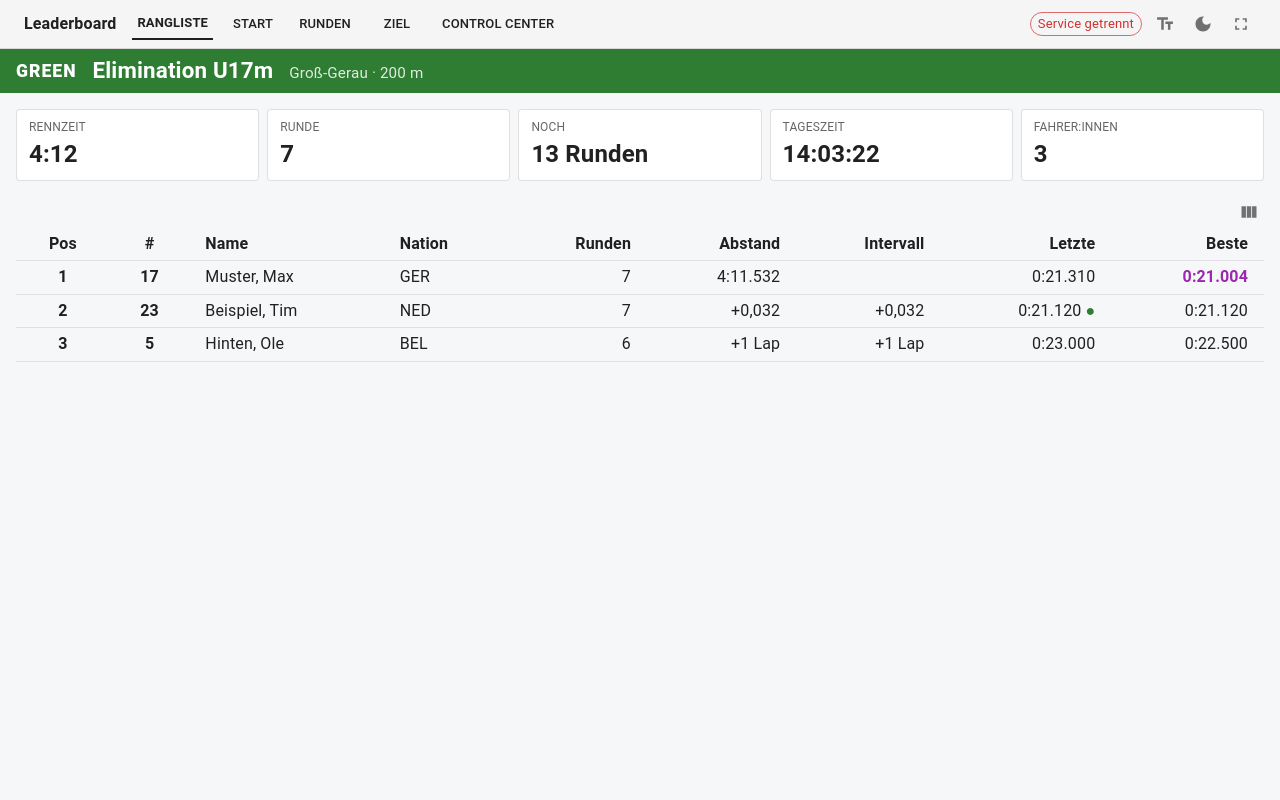
Test: leaderboard › switches columns with presets and remembers them on the device
expect the heading "Elimination U17m" is shown: met, box x1=92 y1=57 x2=273 y2=84
expect the column heading "Intervall" is shown: met, box x1=796 y1=227 x2=940 y2=261
Click the button named "Spalten wählen" at (1249, 212), box x1=1234 y1=197 x2=1264 y2=227
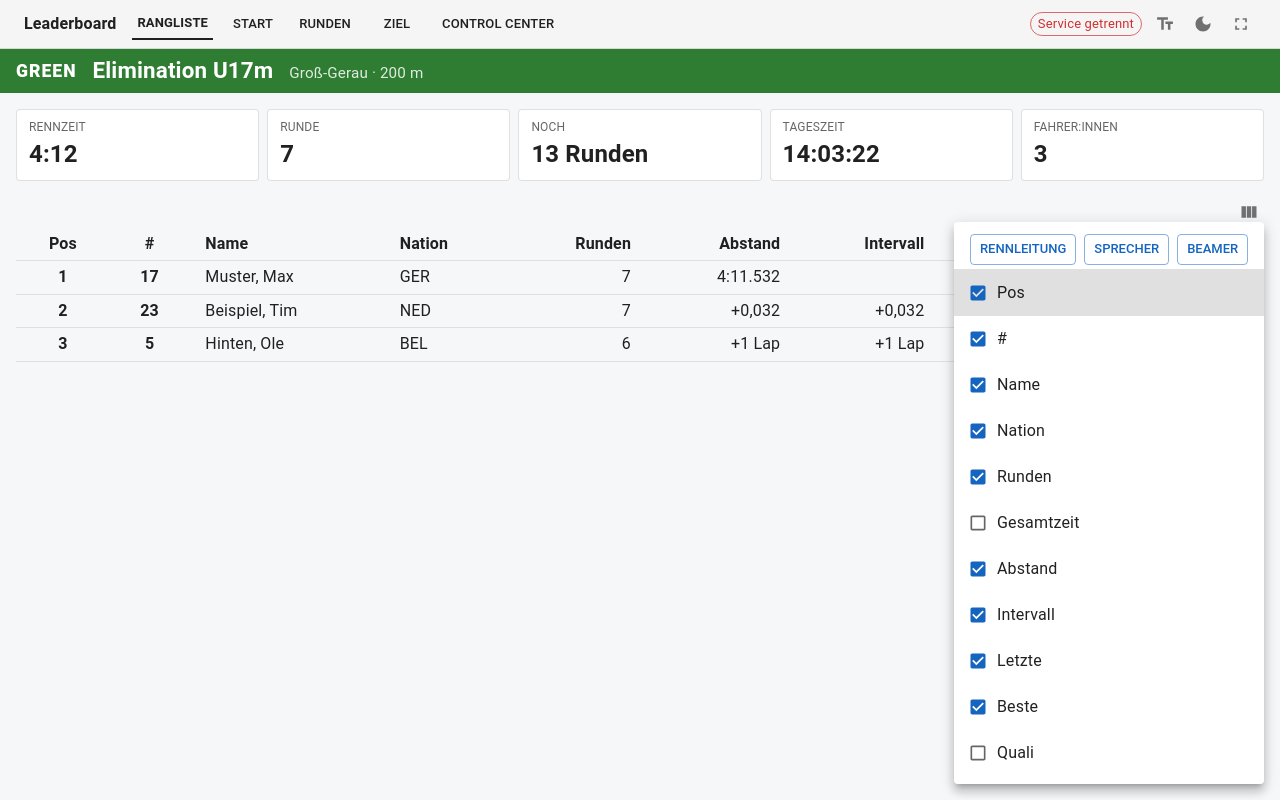
Click the button "Beamer" at (1213, 249), box x1=1177 y1=234 x2=1248 y2=265
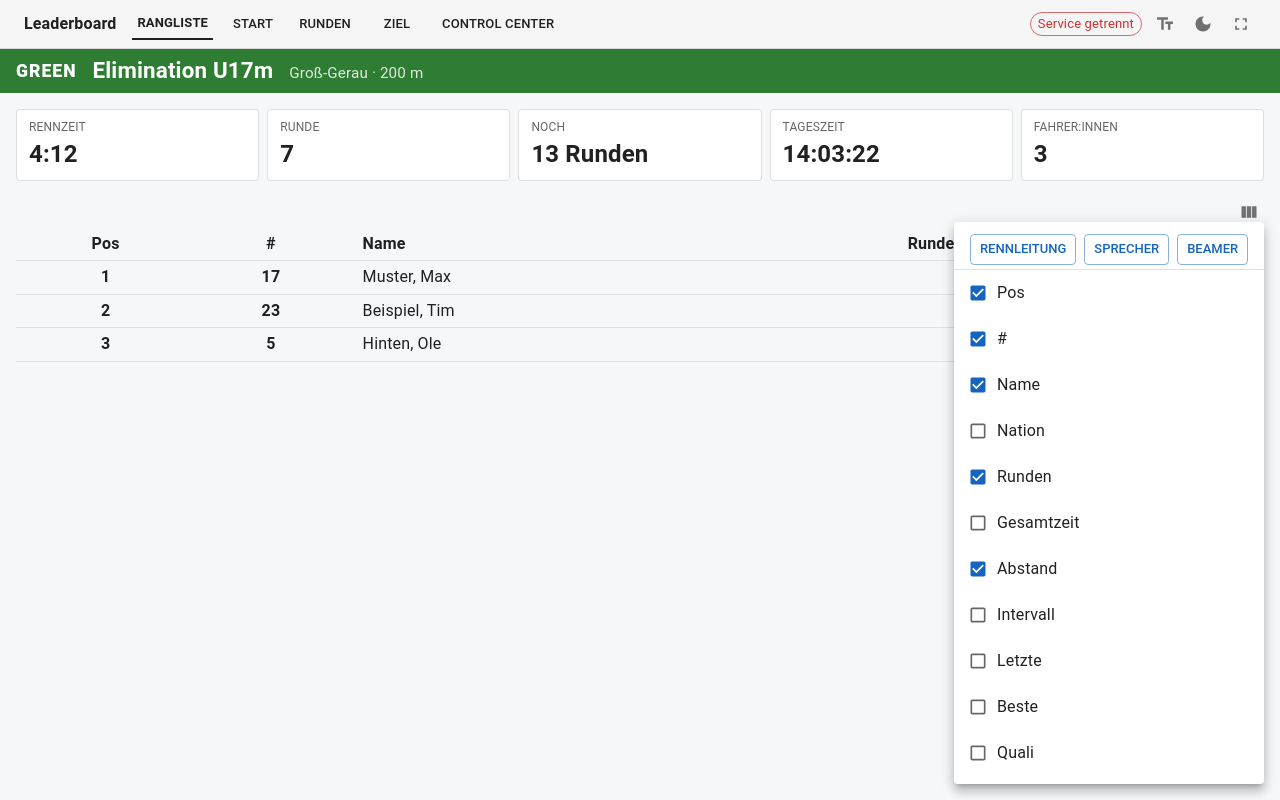
Press Escape
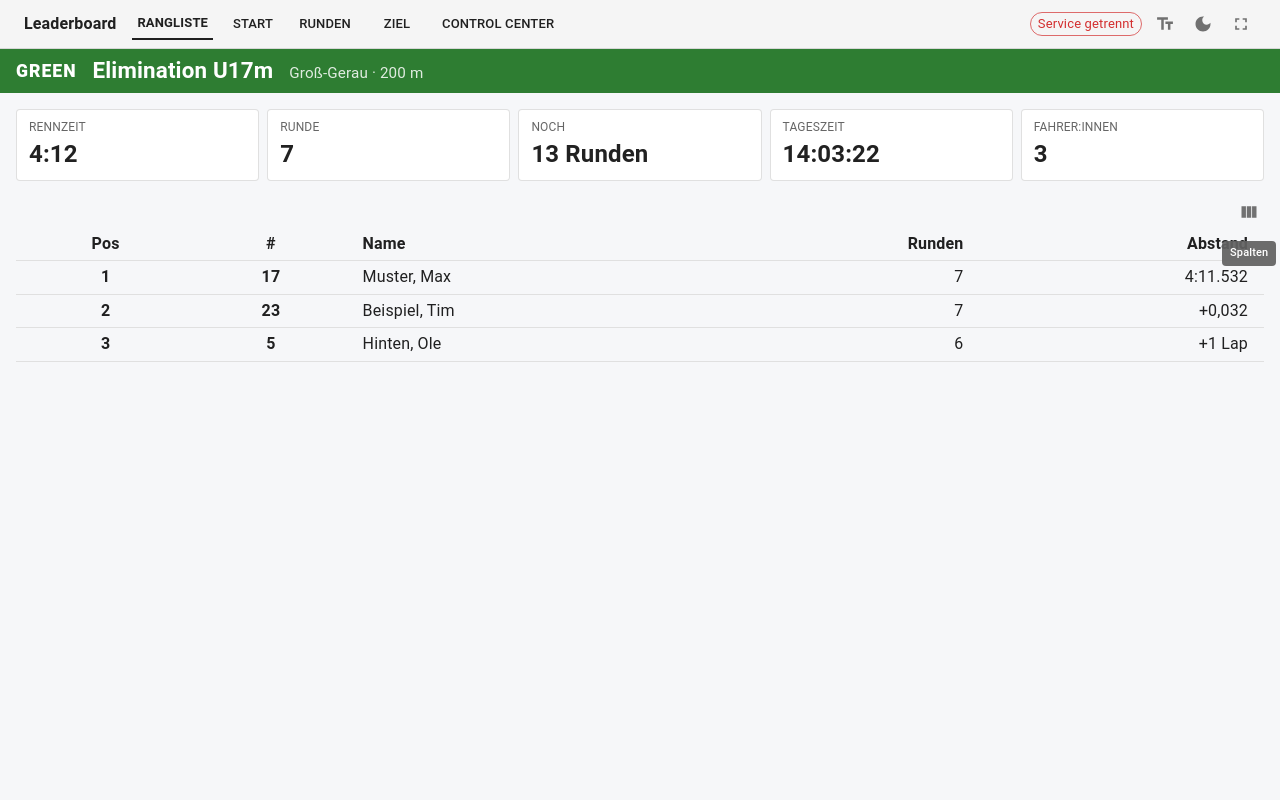
expect the menu item "Intervall" is gone: met
